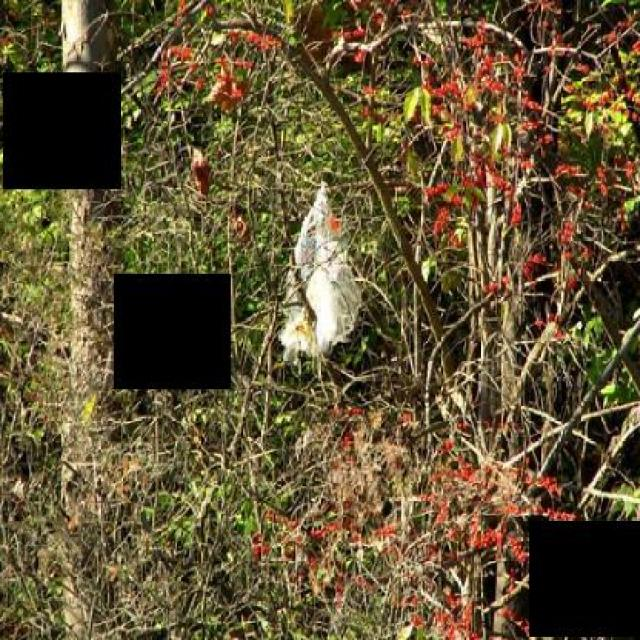plastic bag: (277, 179, 366, 363)
